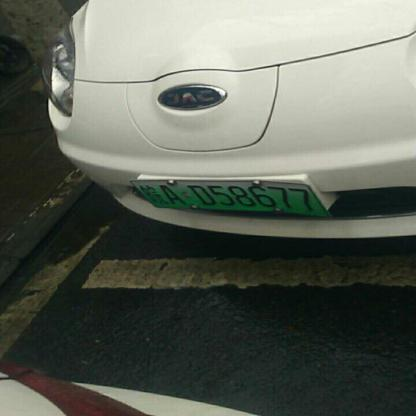lp: (130, 180, 328, 218)
